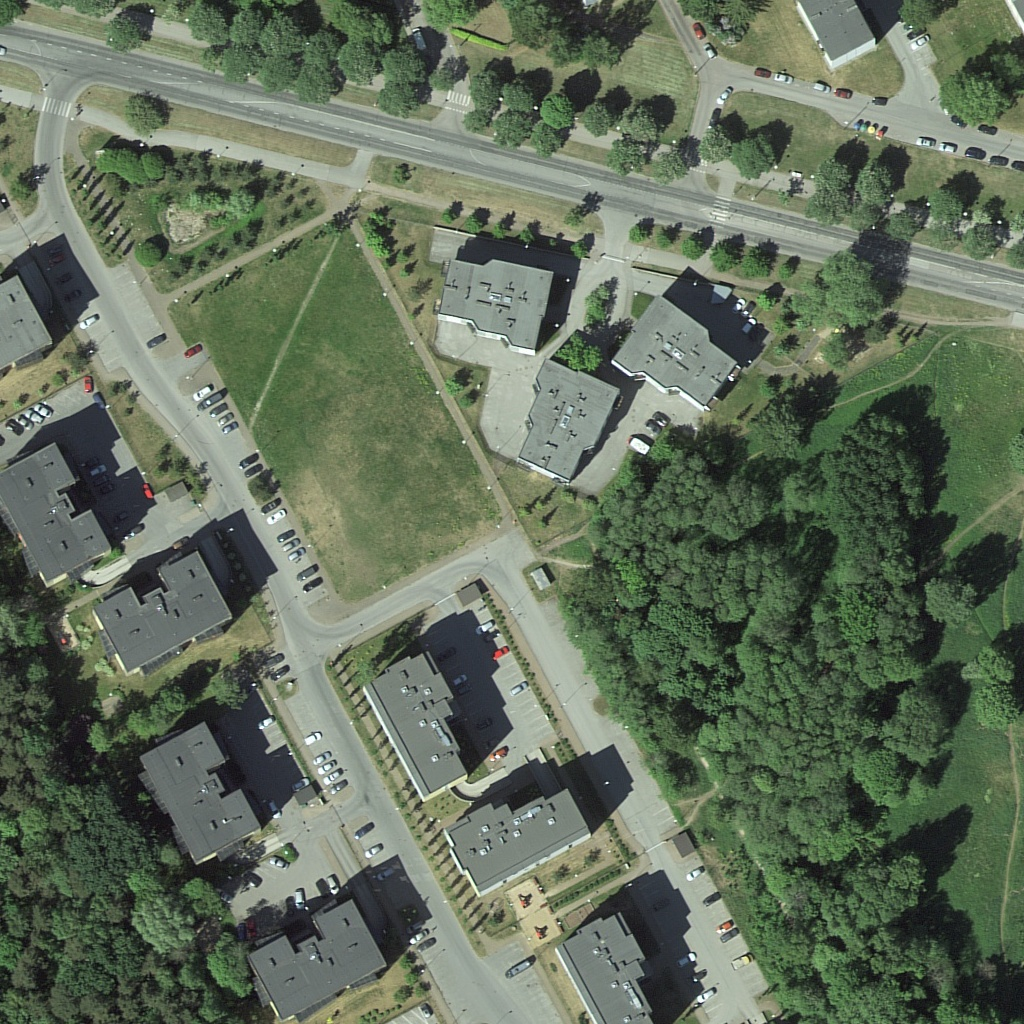building: (88, 549, 235, 681), (442, 784, 596, 908), (597, 293, 744, 416), (137, 719, 261, 864), (251, 897, 391, 1019), (364, 648, 474, 801), (5, 443, 116, 591), (509, 359, 631, 484), (436, 252, 548, 358), (558, 911, 647, 1024), (1, 275, 58, 383), (792, 1, 877, 70)
